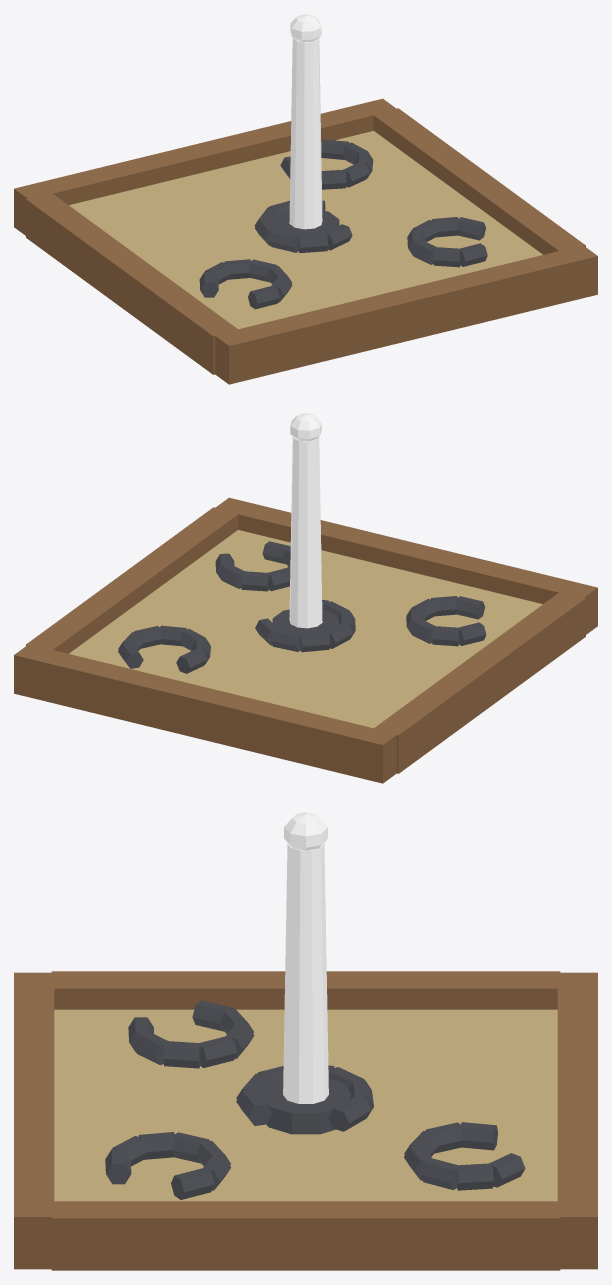
Rendered from Building_HorseshoesPin.glb.
3 views of the same model, one above another, from view 1: azimuth 30°, elevation 25°; view 2: azimuth 150°, elevation 25°; view 3: azimuth 270°, elevation 25° (orthographic). The views are drawn at different scales.
Visible parts, largest first — view 1: HorseshoesPin; view 2: HorseshoesPin; view 3: HorseshoesPin.
Boxes of the visible parts, left/top/right/bottom form: HorseshoesPin: left=14, top=14, right=597, bottom=384; HorseshoesPin: left=14, top=413, right=597, bottom=783; HorseshoesPin: left=14, top=812, right=597, bottom=1270.
Bounding box in the file's own units: 1.01 × 0.635 × 1.01.
1 material, 1 textured.
